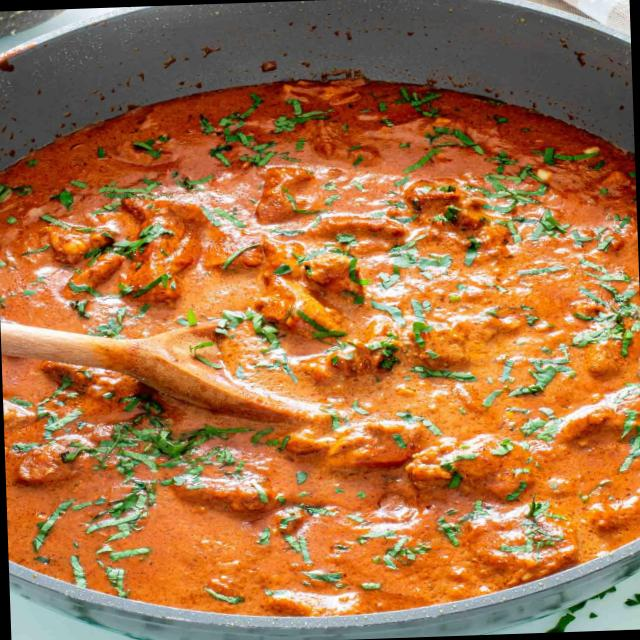chicken: (14, 94, 634, 596)
